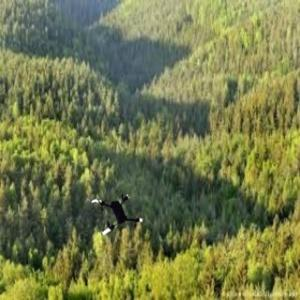drone: (87, 188, 144, 245)
